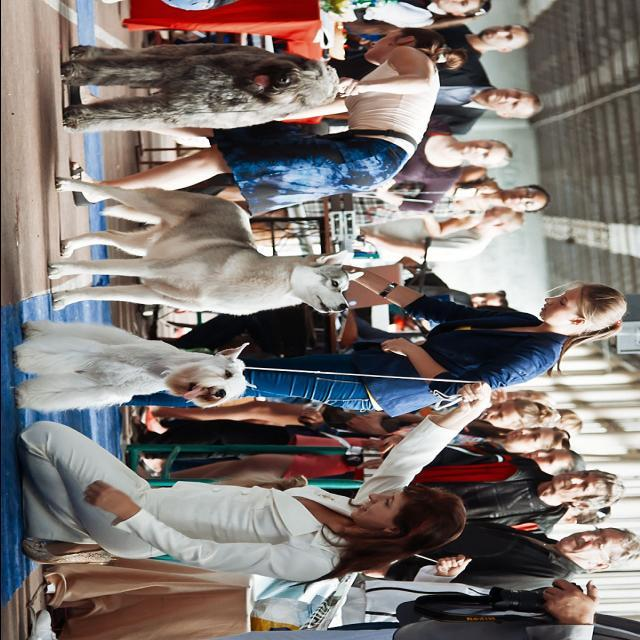Dogs: (48, 170, 368, 318), (54, 34, 348, 132), (9, 313, 259, 417)
